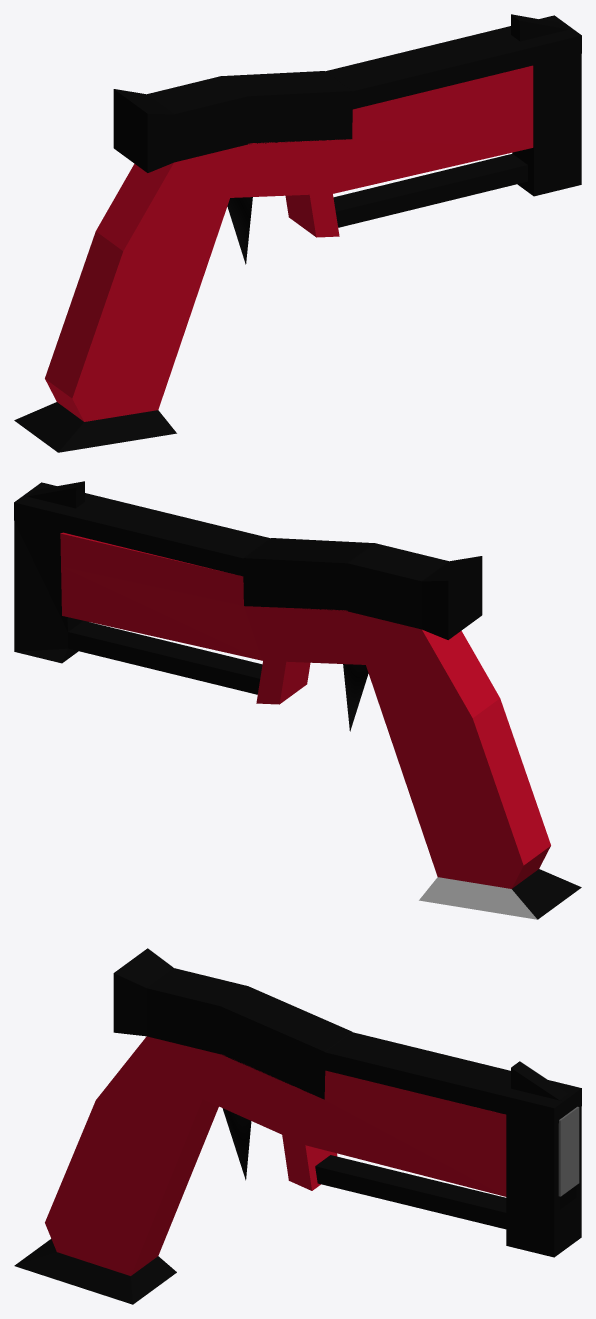
Rendered from Lazer pistol.fbx.
3 renders of one model, top to bottom at view 1: azimuth 30°, elevation 25°; view 2: azimuth 150°, elevation 25°; view 3: azimuth 330°, elevation 25°, orthographic.
Visible parts, largest first — view 1: Lazer_pistol, Trigger; view 2: Lazer_pistol, Trigger; view 3: Lazer_pistol, Barrel, Trigger.
Part boxes in pixels (left/top/right/bottom): Lazer_pistol: left=14, top=14, right=581, bottom=452; Trigger: left=227, top=197, right=252, bottom=264; Lazer_pistol: left=14, top=481, right=581, bottom=919; Trigger: left=343, top=664, right=368, bottom=731; Lazer_pistol: left=14, top=948, right=581, bottom=1304; Barrel: left=558, top=1106, right=579, bottom=1196; Trigger: left=222, top=1108, right=251, bottom=1180.
Size of the model in its own units: 13.44 by 7.74 by 1.93.
